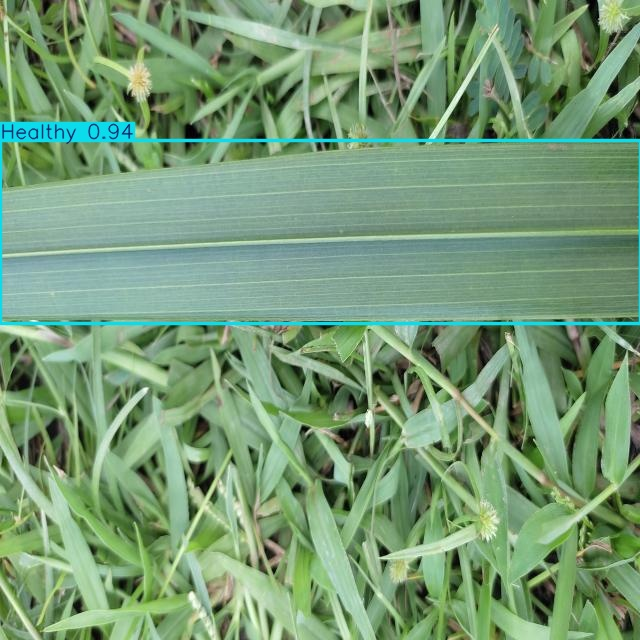Healthy: (0, 140, 640, 323)
